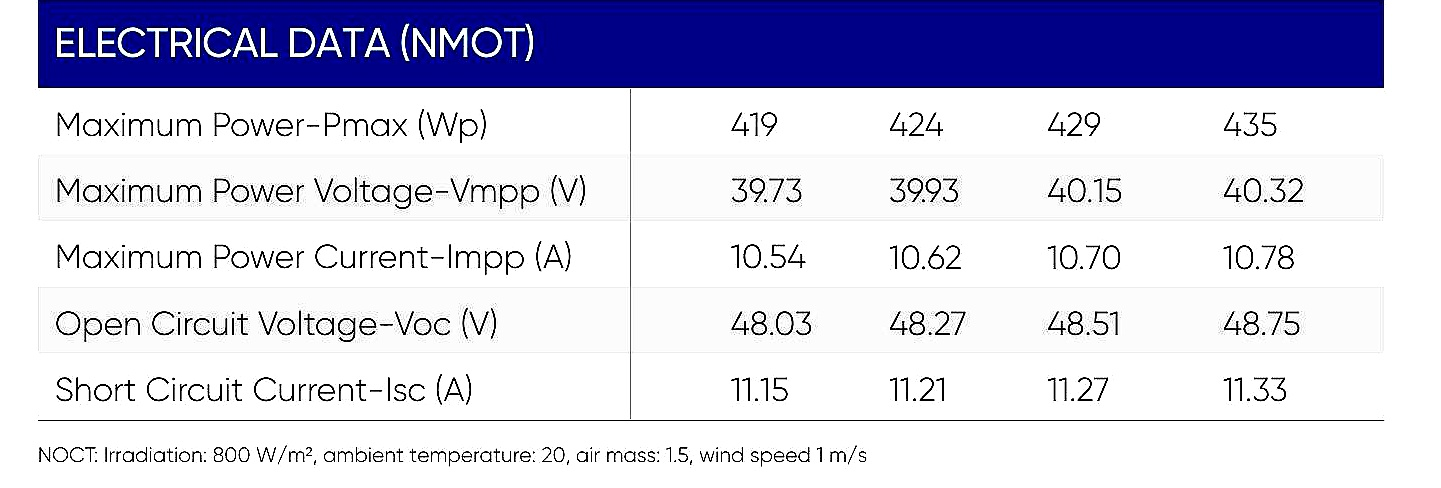table: (30, 2, 1395, 429)
table column: (40, 8, 631, 420), (631, 11, 847, 421), (1186, 9, 1380, 424), (845, 9, 1016, 418), (1018, 6, 1183, 419)
table name: (40, 10, 1380, 84)
table row: (37, 10, 1383, 87), (38, 93, 1384, 156), (35, 160, 1385, 222), (37, 294, 1387, 355), (37, 228, 1388, 287), (39, 360, 1387, 419)
table row header: (37, 11, 633, 424)
table spanning cell: (39, 9, 1377, 84)
